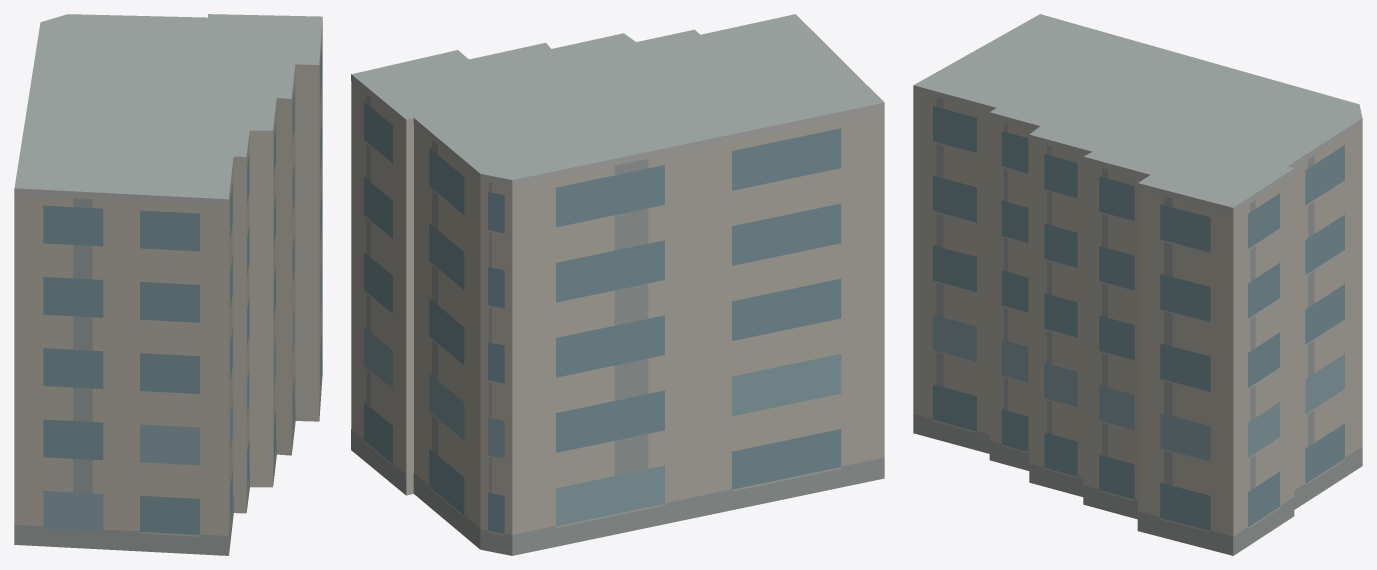
Rendered from survey-upis-32689006.glb.
3 renders of one model, left to right at view 1: azimuth 30°, elevation 25°; view 2: azimuth 150°, elevation 25°; view 3: azimuth 270°, elevation 25°, orthographic. The views are drawn at different scales.
Visible parts, largest first — view 1: survey-upis-32689006.tmp; view 2: survey-upis-32689006.tmp; view 3: survey-upis-32689006.tmp.
Boxes of the visible parts, <box> form: survey-upis-32689006.tmp: <box>14,14,322,555</box>; survey-upis-32689006.tmp: <box>351,14,884,555</box>; survey-upis-32689006.tmp: <box>913,14,1362,555</box>.
Bounding box in the file's own units: 15.66 × 13.1 × 15.33.
